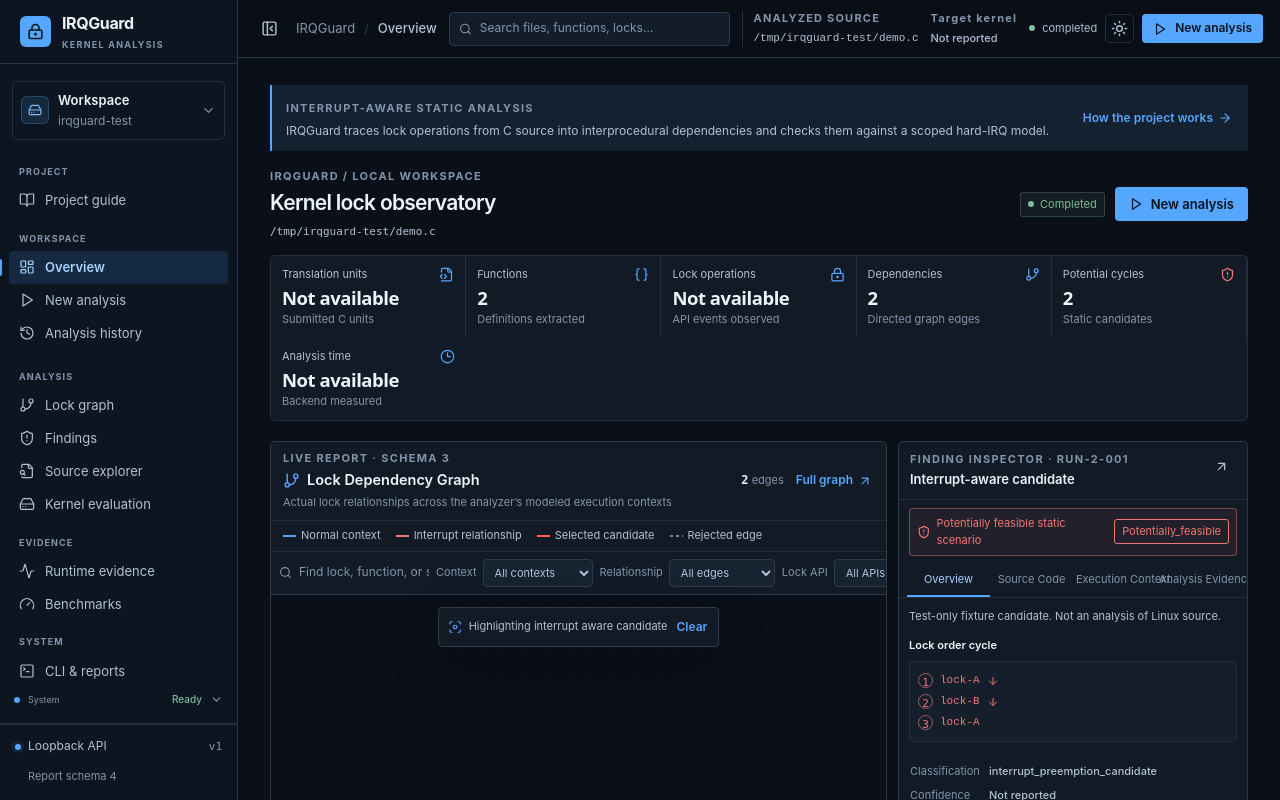
IRQGuard workspace states › shows actual graph edges and makes multiple report cycles selectable
Check: the heading "Lock Dependency Graph" is shown, box top-left (283, 471), bottom-right (480, 489)
Check: the element named "Finding detail sections" is shown, box top-left (899, 563), bottom-right (1247, 598)
Click the tab "Execution Context".
click(1114, 580)  # box top-left (1073, 563), bottom-right (1156, 597)
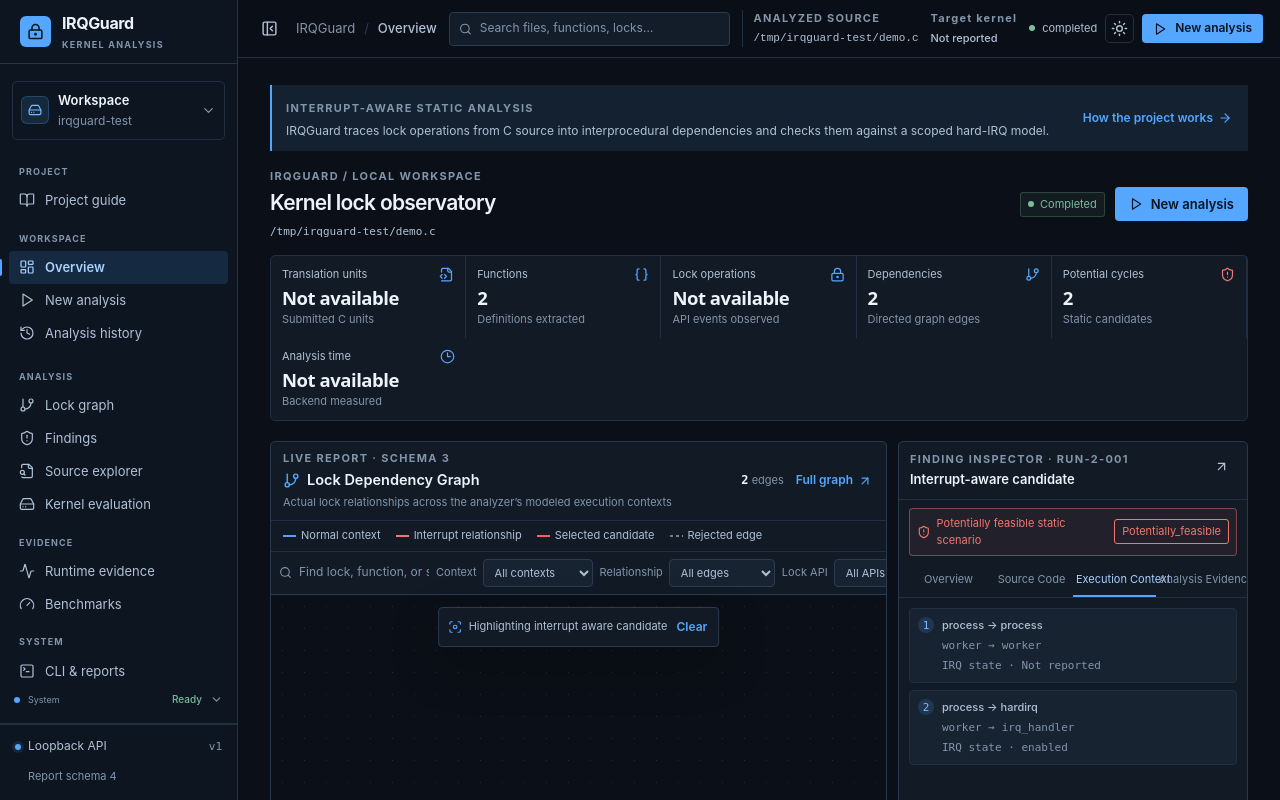
Check: the text "process → hardirq" is shown, box top-left (942, 700), bottom-right (1038, 714)
Click the tab "Analysis Evidence".
click(1198, 580)  # box top-left (1156, 563), bottom-right (1239, 597)
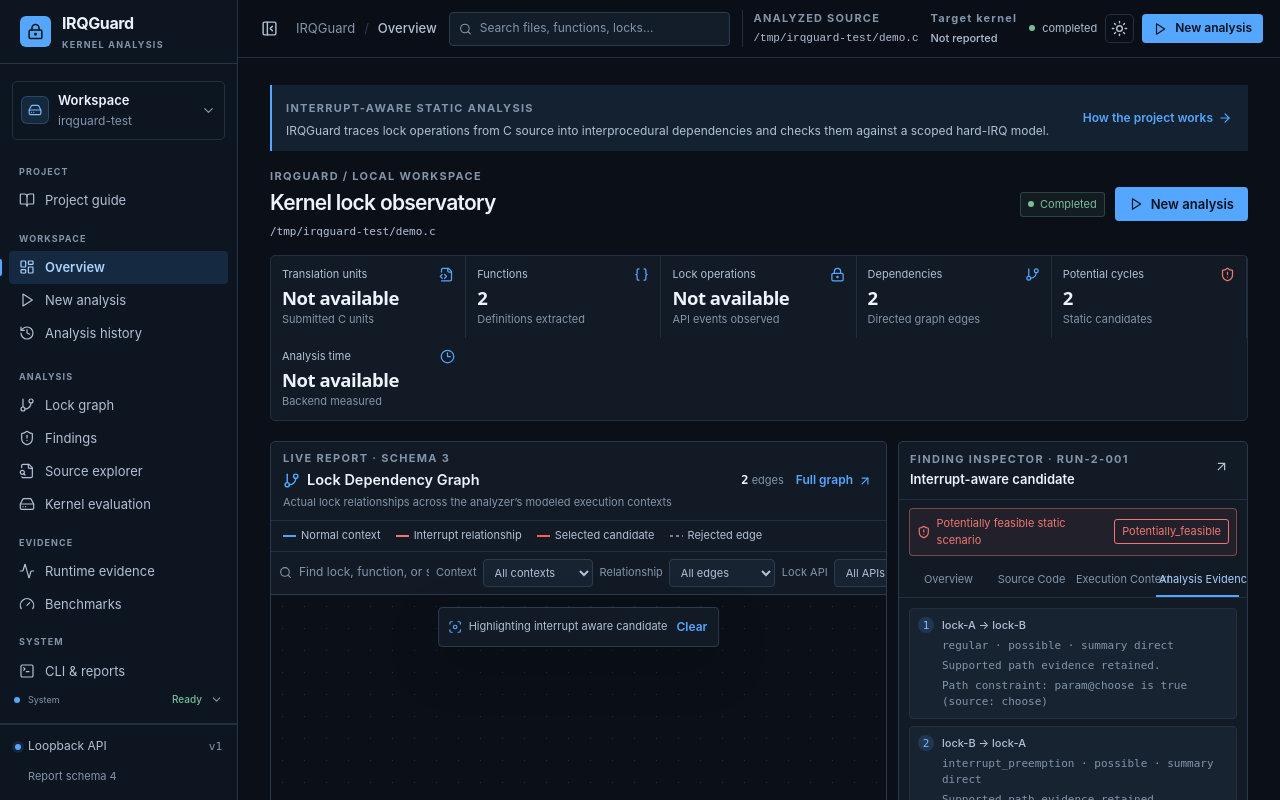
Check: the text "Path constraint: param@choose is true (source: choose)" is shown, box top-left (942, 678), bottom-right (1228, 710)
Click the button "Lock graph".
click(118, 405)  # box top-left (9, 388), bottom-right (228, 422)
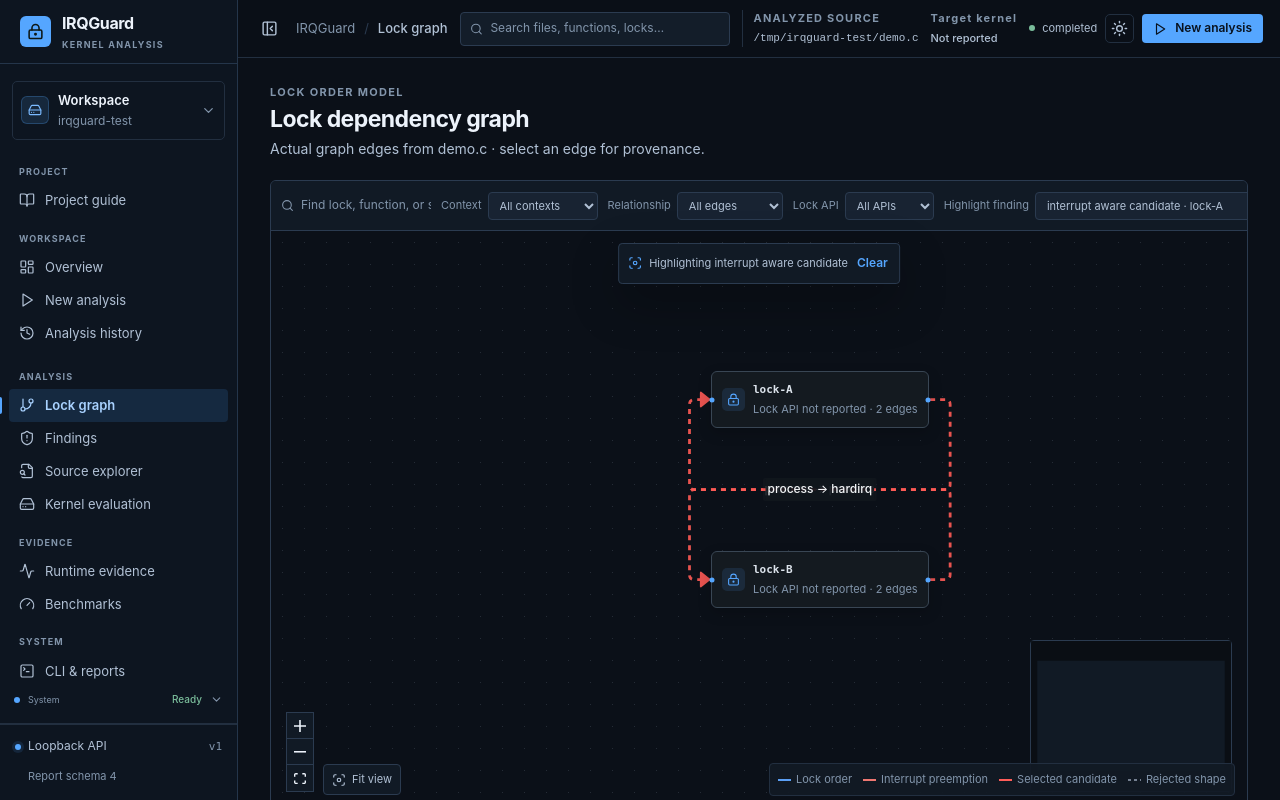
Select "candidate lock order cycle · lock-B" in the dropdown named "Highlight a finding" at {"x": 1150, "y": 206}, box top-left (1035, 192), bottom-right (1265, 220)
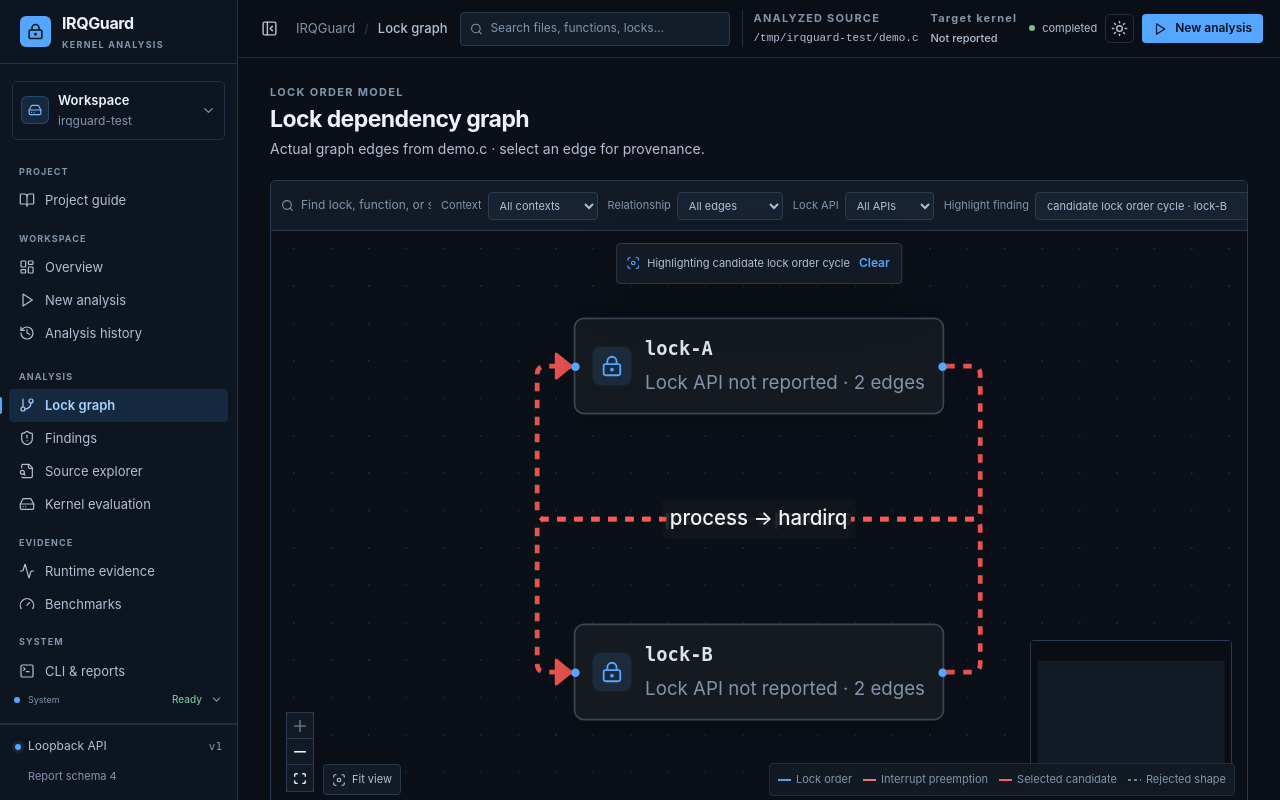
Check: the text "Highlighting candidate lock order cycle" is shown, box top-left (647, 255), bottom-right (850, 272)
